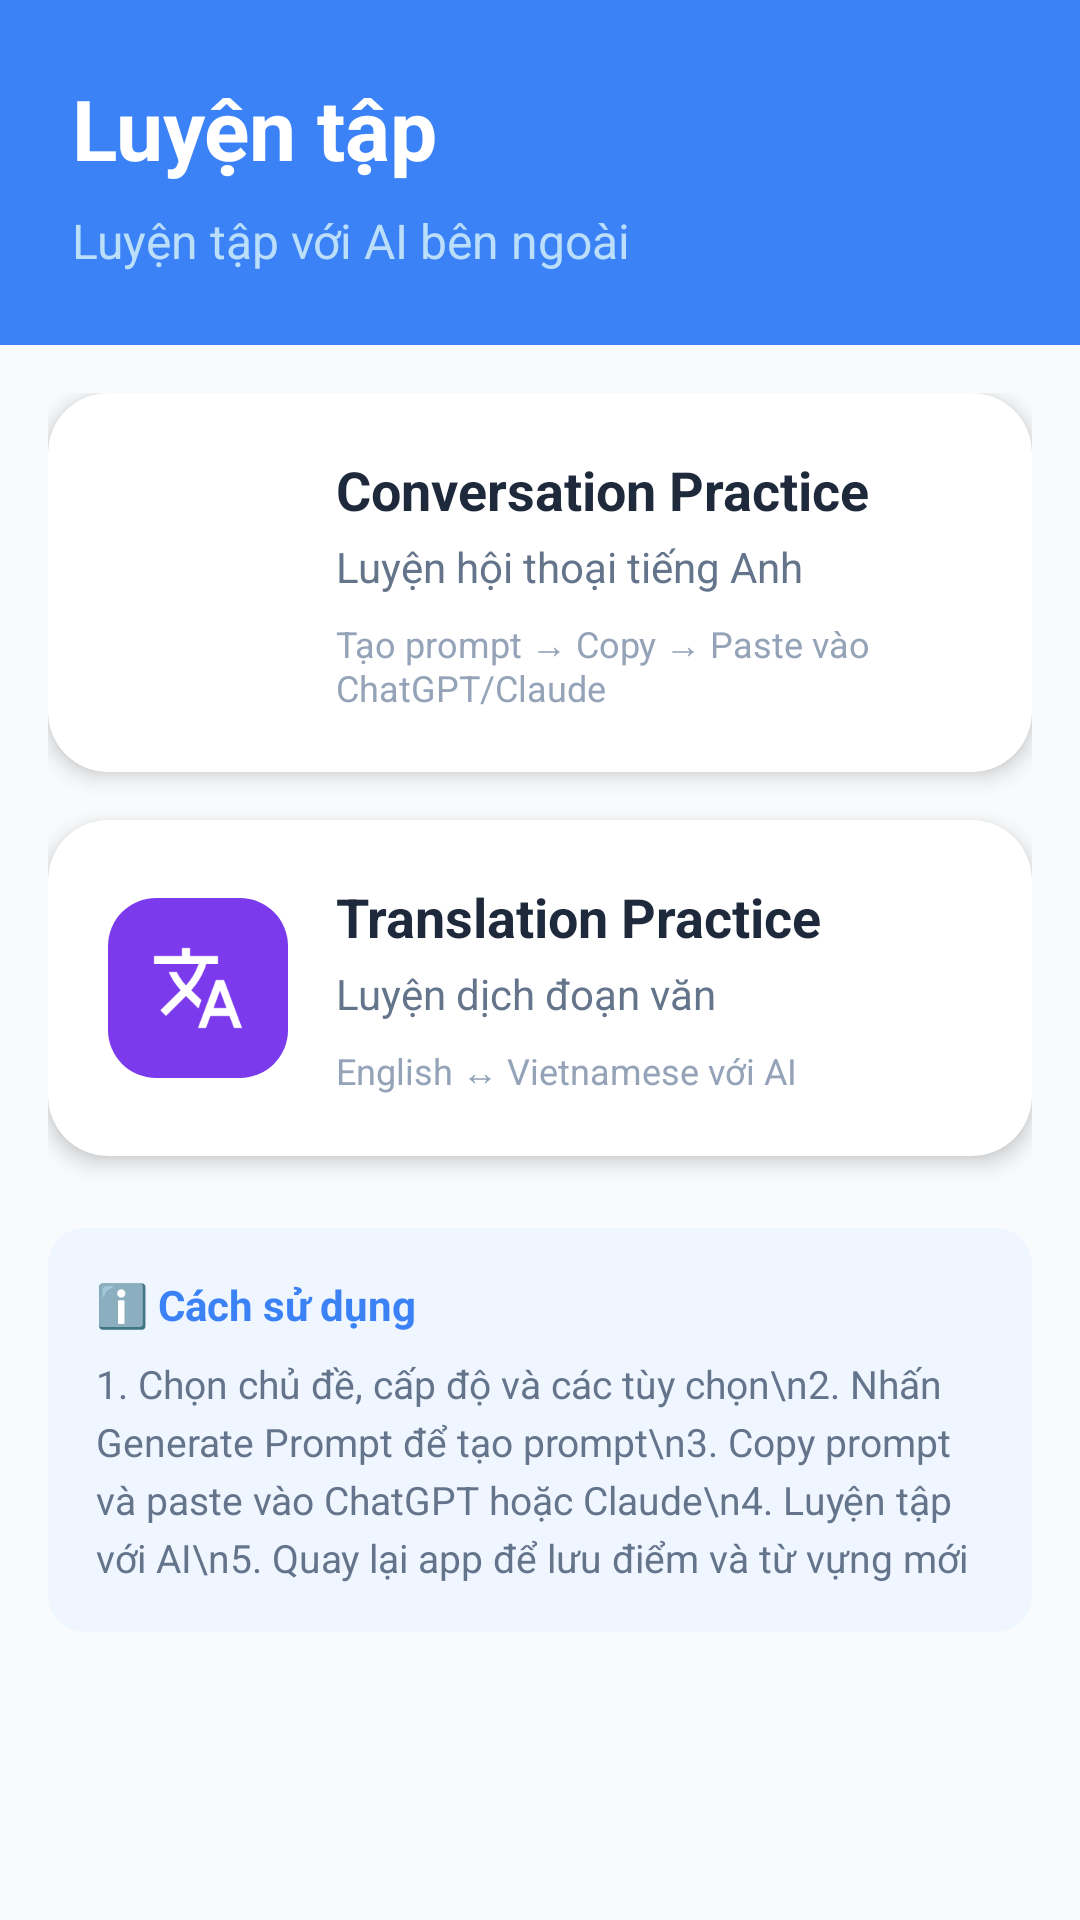

Icons on this 1080px x 1920px Android screen, each with the point to tap as [x,y]:
translate: [198,988]
